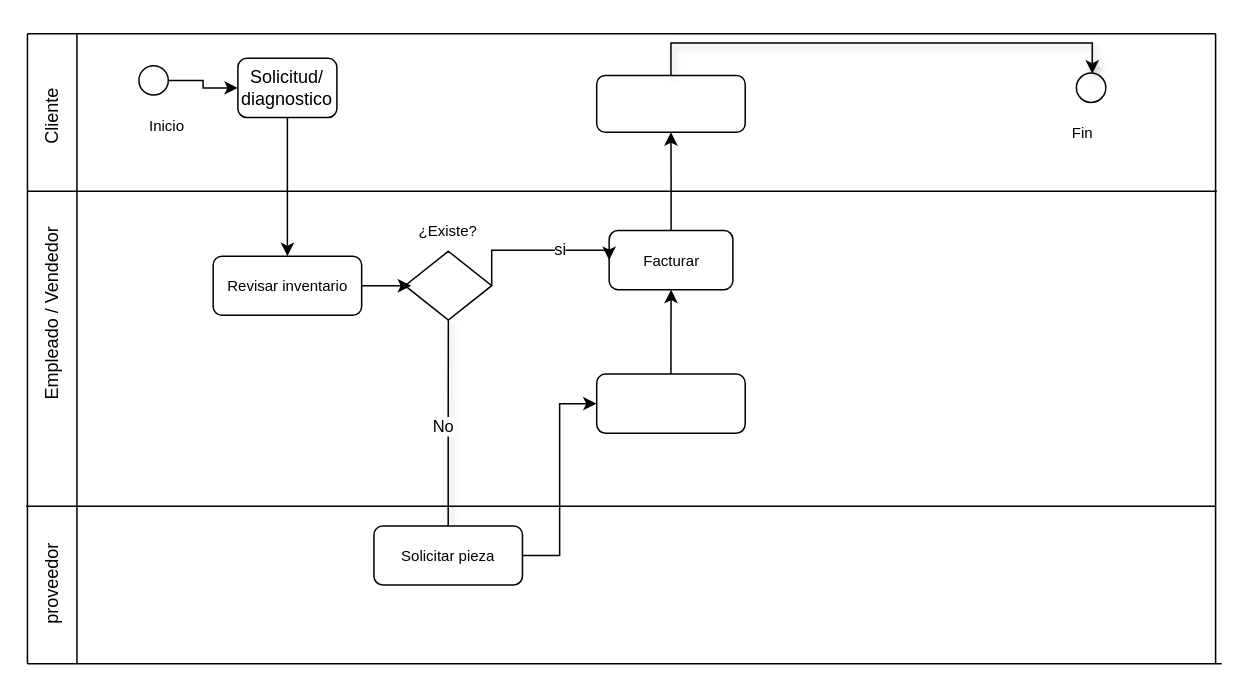
The diagram is 1250 pixels wide and 692 high, and some of its shapes have lost their labels. The centre of each missing label's shape, as x and y in pixels:
Pago: (x=670, y=103)
Recibir: (x=670, y=403)
